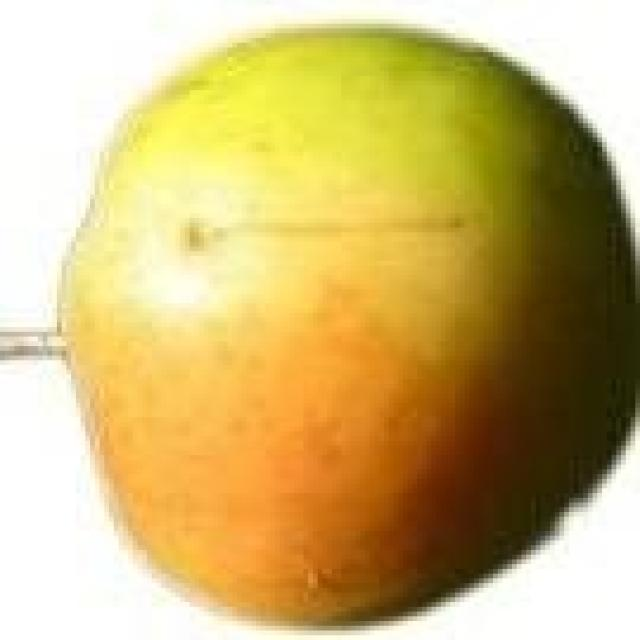Rotten Apple: (57, 21, 640, 633)
